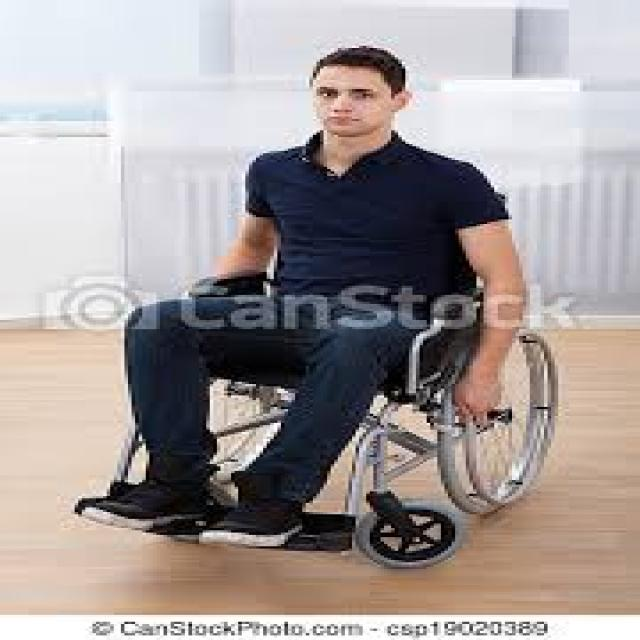wheelchairs: (110, 242, 572, 562)
